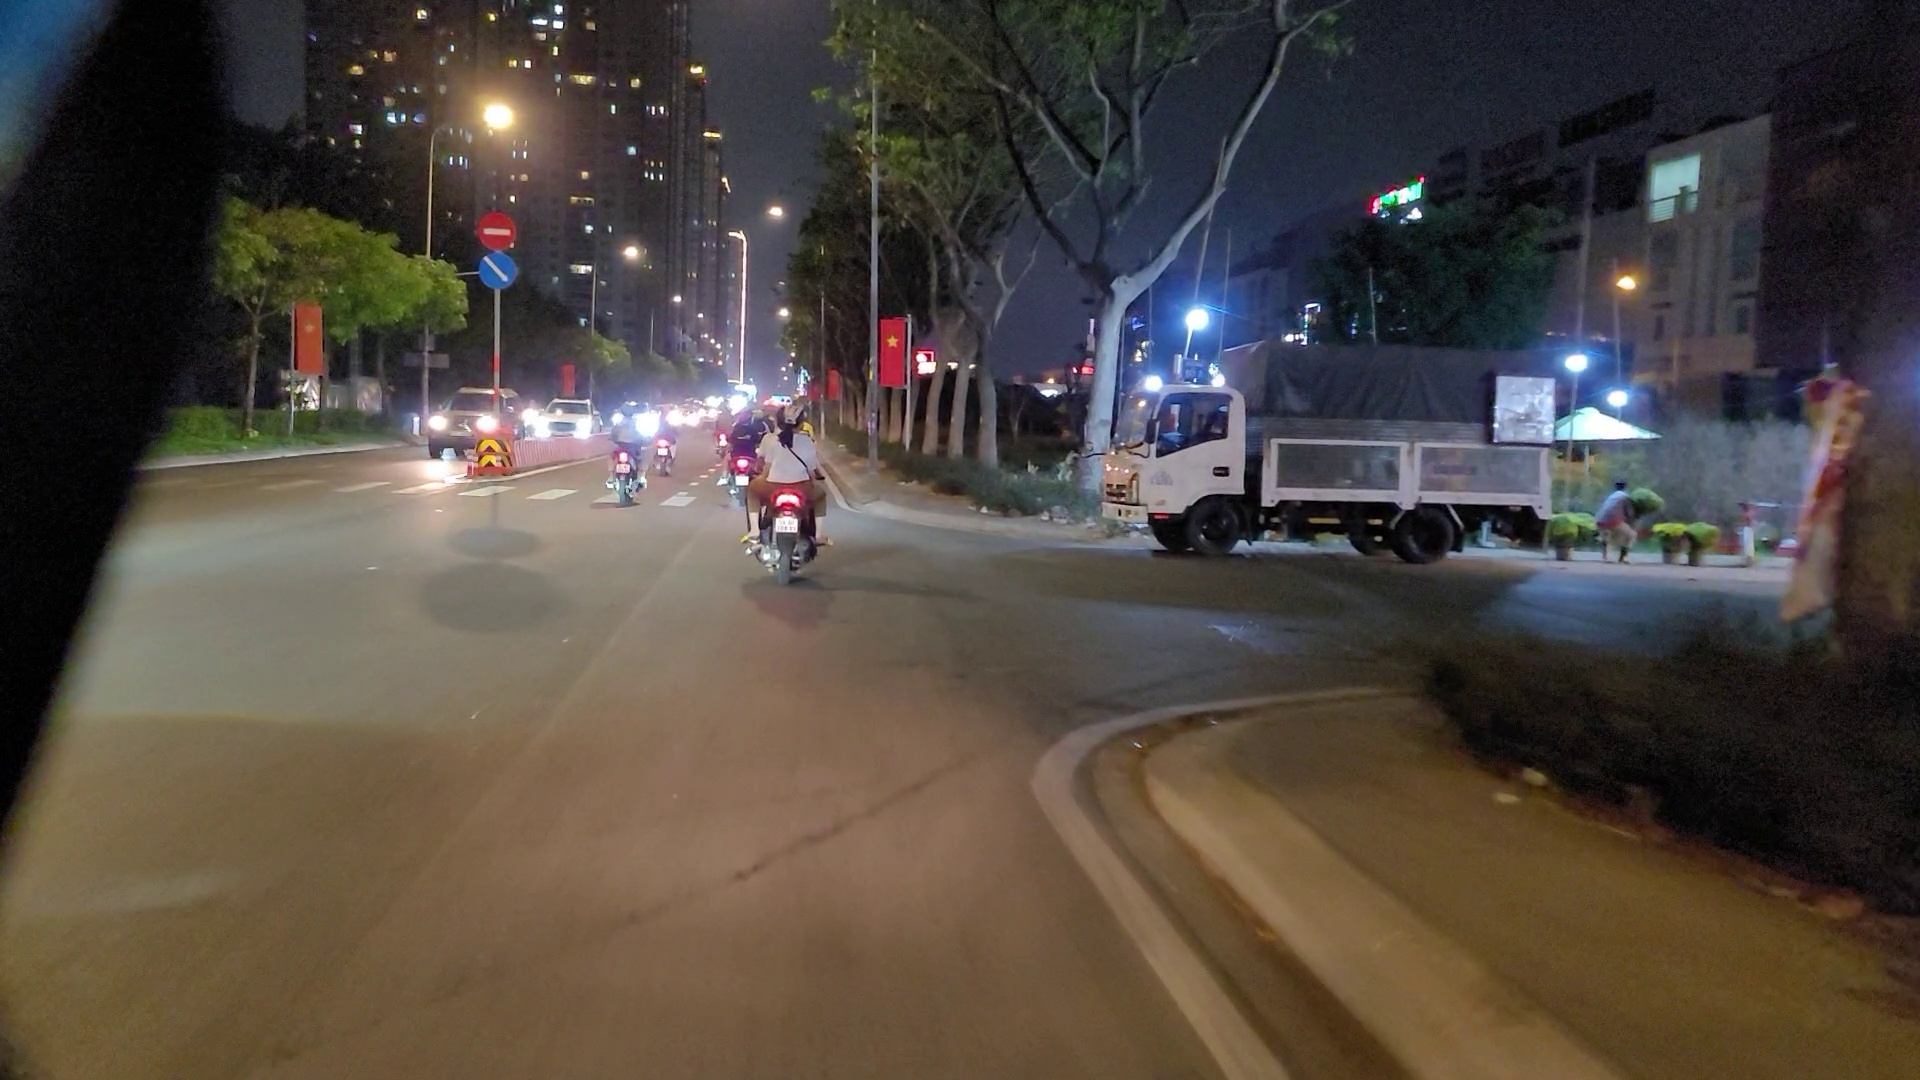Cam di nguoc chieu: (476, 212, 514, 247)
Huong di phai re phai: (477, 248, 517, 287)
